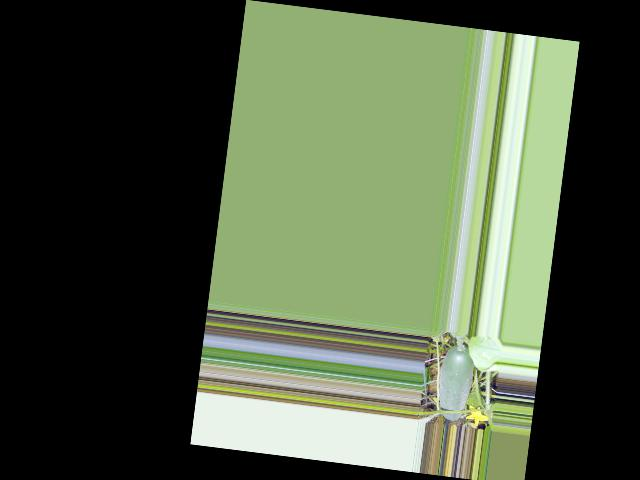cucumber: (434, 341, 476, 421)
